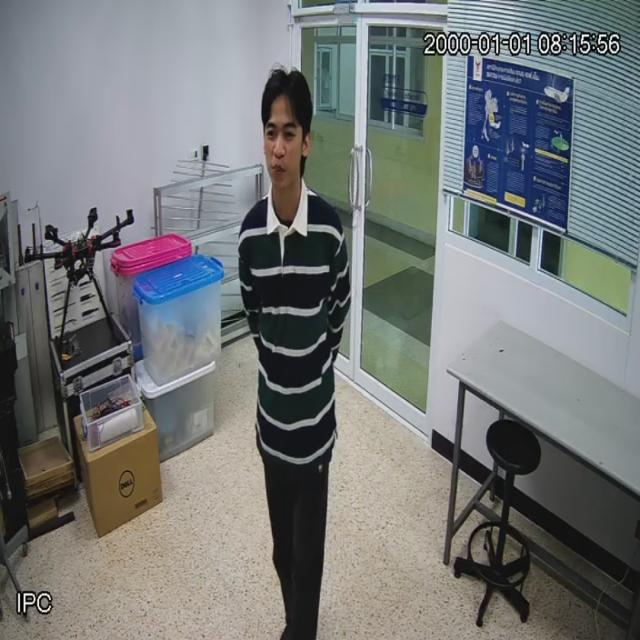normal: (239, 70, 351, 640)
